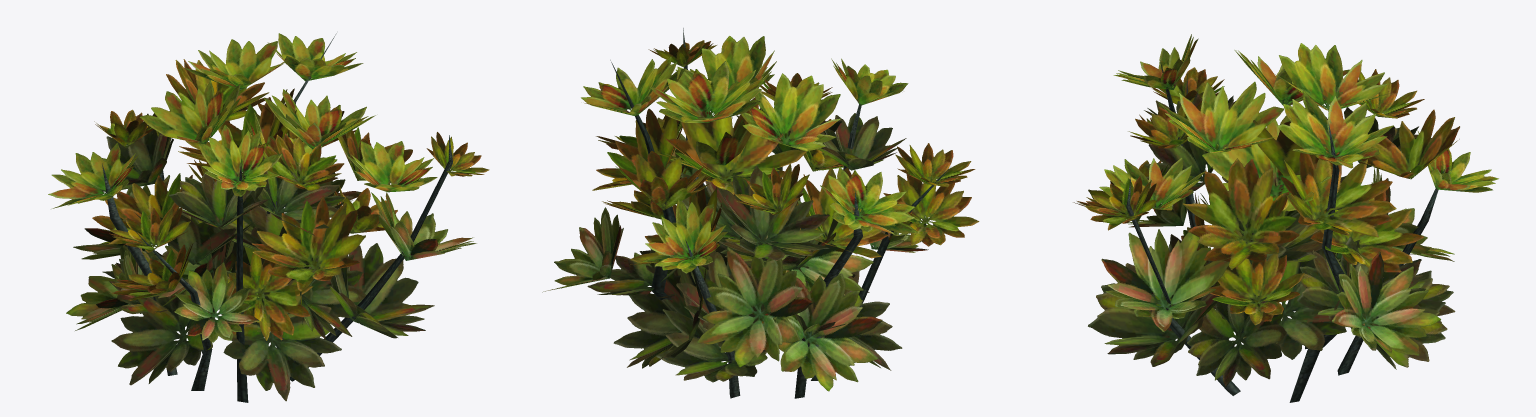
Rendered from JiaYeSi_GuanMu_4.FBX.
3 renders of one model, left to right at view 1: azimuth 30°, elevation 25°; view 2: azimuth 150°, elevation 25°; view 3: azimuth 270°, elevation 25°, orthographic. The views are drawn at different scales.
Visible parts, largest first — view 1: JiaYeSi_GuanMu_4; view 2: JiaYeSi_GuanMu_4; view 3: JiaYeSi_GuanMu_4.
Boxes of the visible parts, x1,y1,x2,y2 form: JiaYeSi_GuanMu_4: [48, 33, 489, 402]; JiaYeSi_GuanMu_4: [542, 28, 979, 398]; JiaYeSi_GuanMu_4: [1073, 34, 1498, 402].
Bounding box in the file's own units: 76.3 × 60.24 × 79.41.
